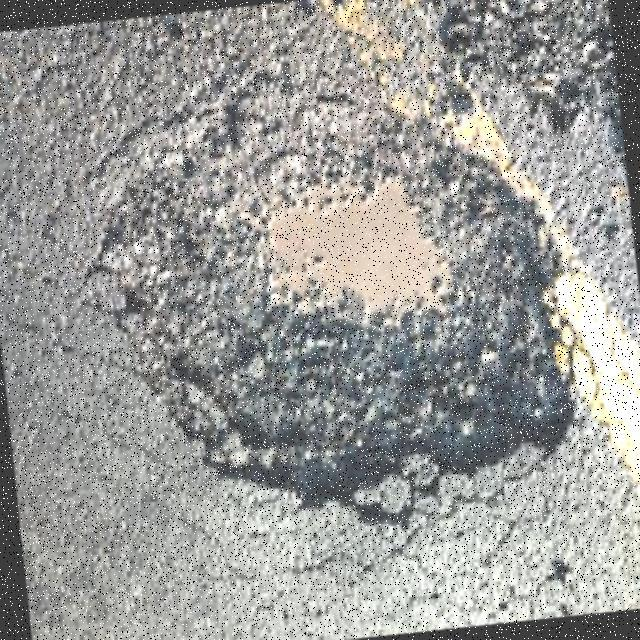Pothole: (99, 142, 574, 524)
